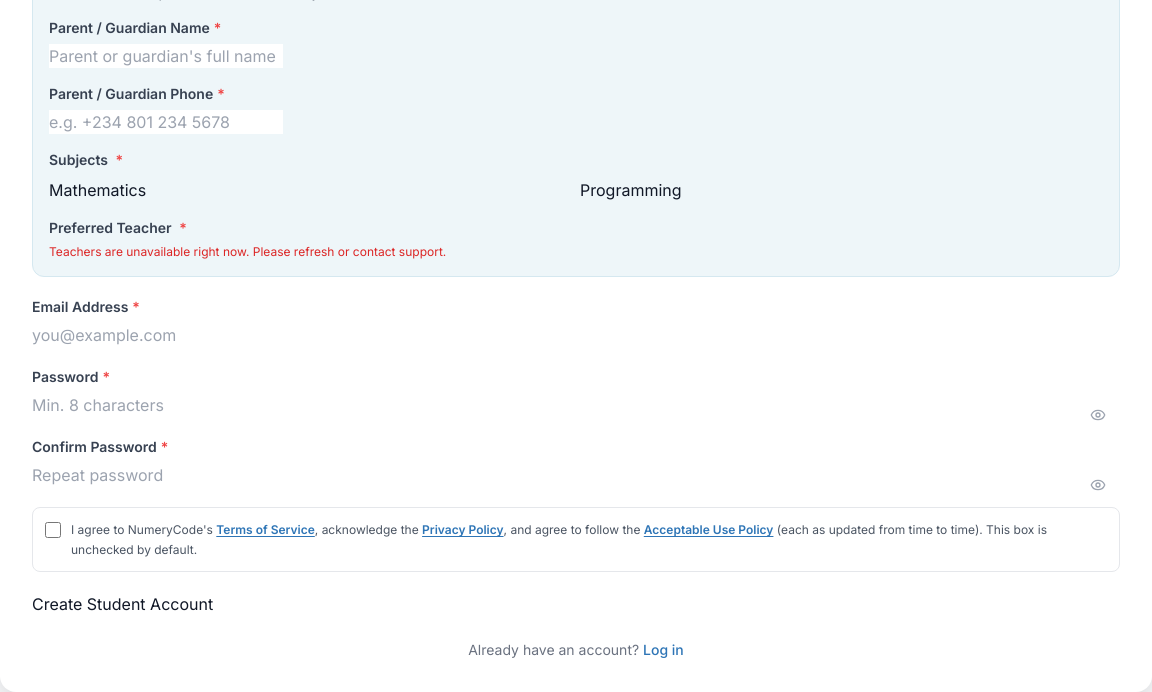
Test case: RegisterPage › shows medium strength for 6-9 char password
(page scrolled)
Step 1. Type "medium1" into the password field with placeholder "Min. 8 characters" → (149, 405), box left=32, top=393, right=266, bottom=417
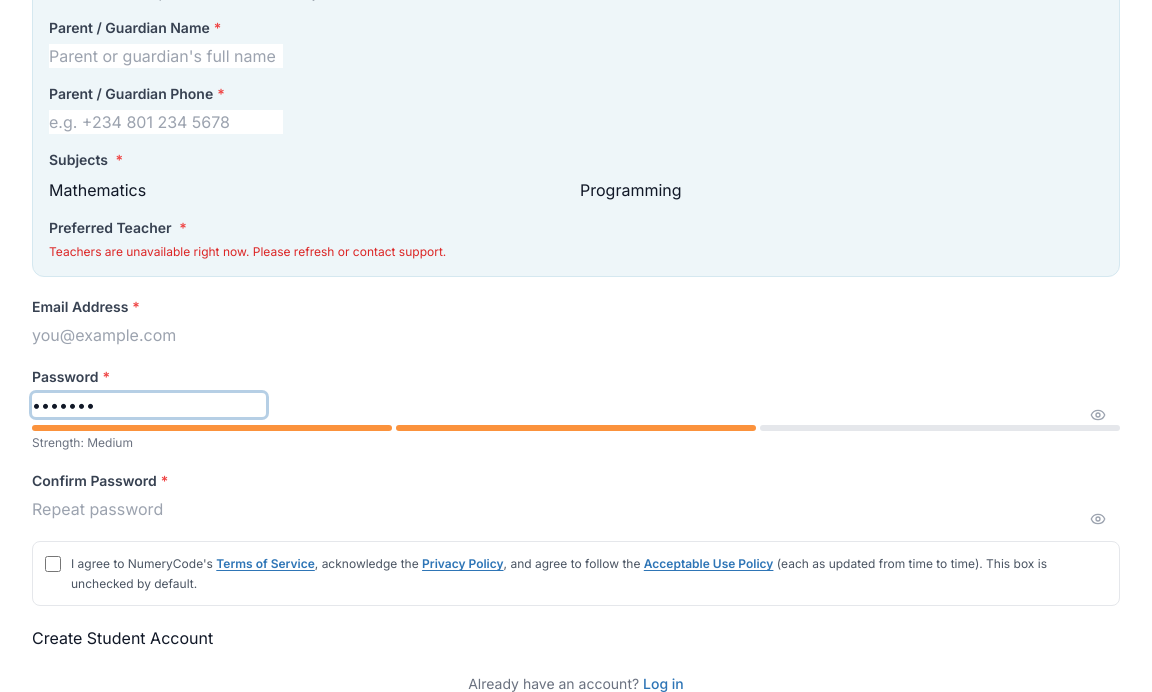
Now the text "Strength: Medium" is shown, box left=32, top=435, right=133, bottom=450
